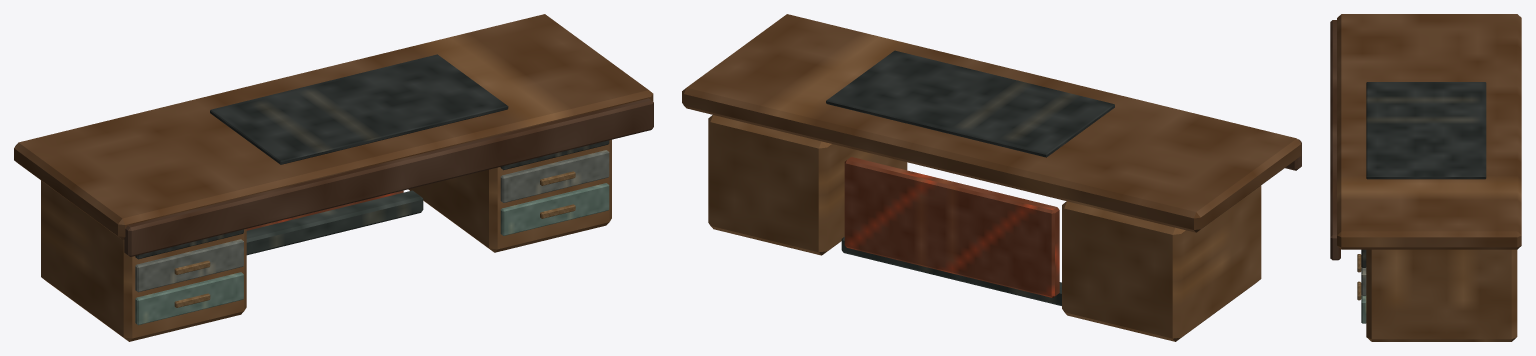
Rendered from SH_POC_Workbench.fbx.
3 views of the same model, side by side, from view 1: azimuth 30°, elevation 25°; view 2: azimuth 150°, elevation 25°; view 3: azimuth 270°, elevation 25° (orthographic). The views are drawn at different scales.
Visible parts, largest first — view 1: SH_POC_Workbench; view 2: SH_POC_Workbench; view 3: SH_POC_Workbench.
Part boxes in pixels (<box>): SH_POC_Workbench: <box>14,14,653,341</box>; SH_POC_Workbench: <box>682,14,1301,341</box>; SH_POC_Workbench: <box>1330,14,1521,341</box>.
Bounding box in the file's own units: 3.4 × 0.9105 × 1.25.
1 material, 1 textured.
